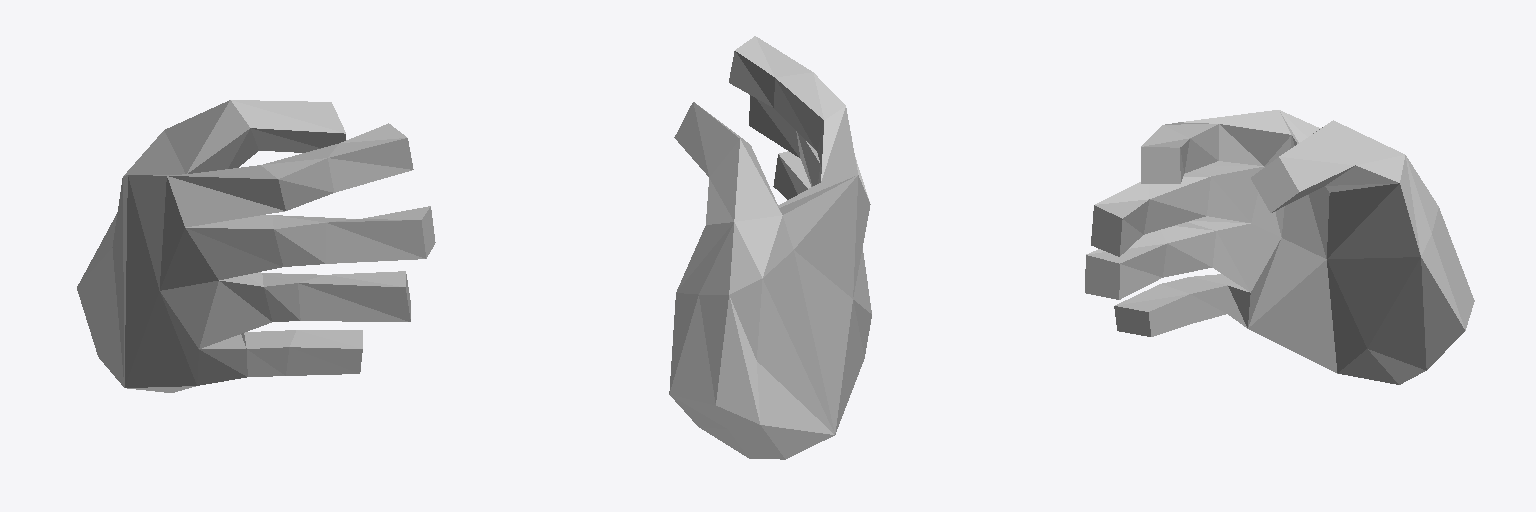
File: ClarinetRightHand1.obj
3 renders of one model, left to right at view 1: azimuth 30°, elevation 25°; view 2: azimuth 150°, elevation 25°; view 3: azimuth 270°, elevation 25°, orthographic.
Visible parts, largest first — view 1: ClarinetRightHand2_RecorderHandLeft0.025; view 2: ClarinetRightHand2_RecorderHandLeft0.025; view 3: ClarinetRightHand2_RecorderHandLeft0.025.
Boxes of the visible parts, x1,y1,x2,y2 form: ClarinetRightHand2_RecorderHandLeft0.025: [77, 100, 435, 392]; ClarinetRightHand2_RecorderHandLeft0.025: [669, 36, 871, 459]; ClarinetRightHand2_RecorderHandLeft0.025: [1085, 110, 1474, 384].
Bounding box in the file's own units: 3.08 × 4.41 × 5.22.